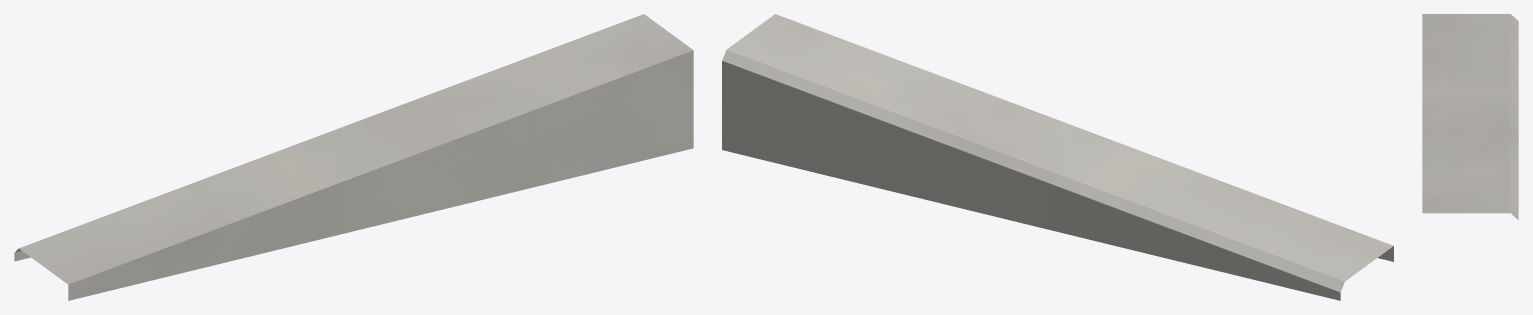
The model's file is strip_low_ccw.obj.
The picture shows the model from 3 angles, left to right: view 1: azimuth 30°, elevation 25°; view 2: azimuth 150°, elevation 25°; view 3: azimuth 270°, elevation 25°; orthographic projection. The views are drawn at different scales.
Parts seen in each view (by area): view 1: strip_low_ccw; view 2: strip_low_ccw; view 3: strip_low_ccw.
Part boxes in pixels (x1,y1,x2,y2): strip_low_ccw: [14, 14, 693, 300]; strip_low_ccw: [722, 14, 1393, 300]; strip_low_ccw: [1422, 14, 1518, 219].
Size of the model in its own units: 1 by 0.15 by 0.149.
